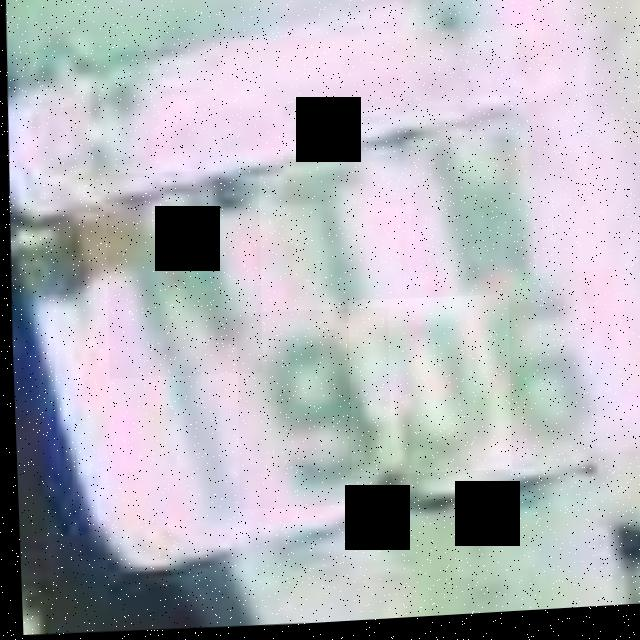0: (342, 297, 510, 482)
1: (118, 317, 263, 529)
6: (466, 274, 614, 476)
9: (229, 308, 391, 515)
B: (404, 105, 552, 301)
N: (100, 168, 262, 383)
T: (240, 144, 402, 339)
